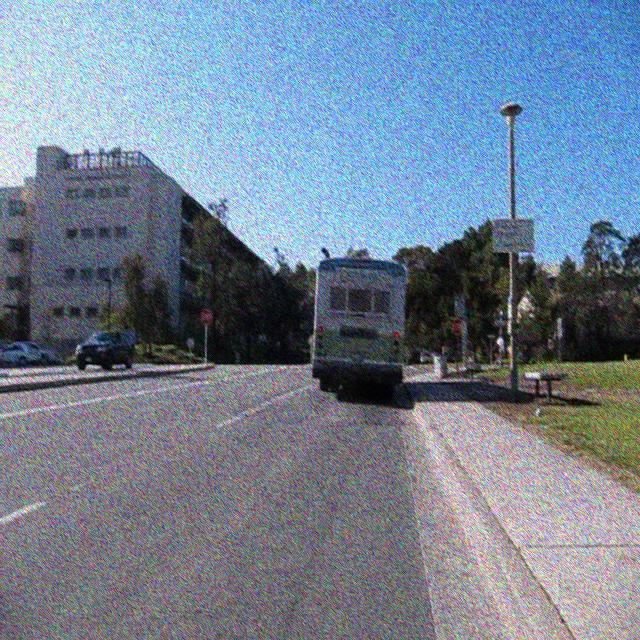stop: (448, 316, 463, 337), (199, 306, 213, 326)
